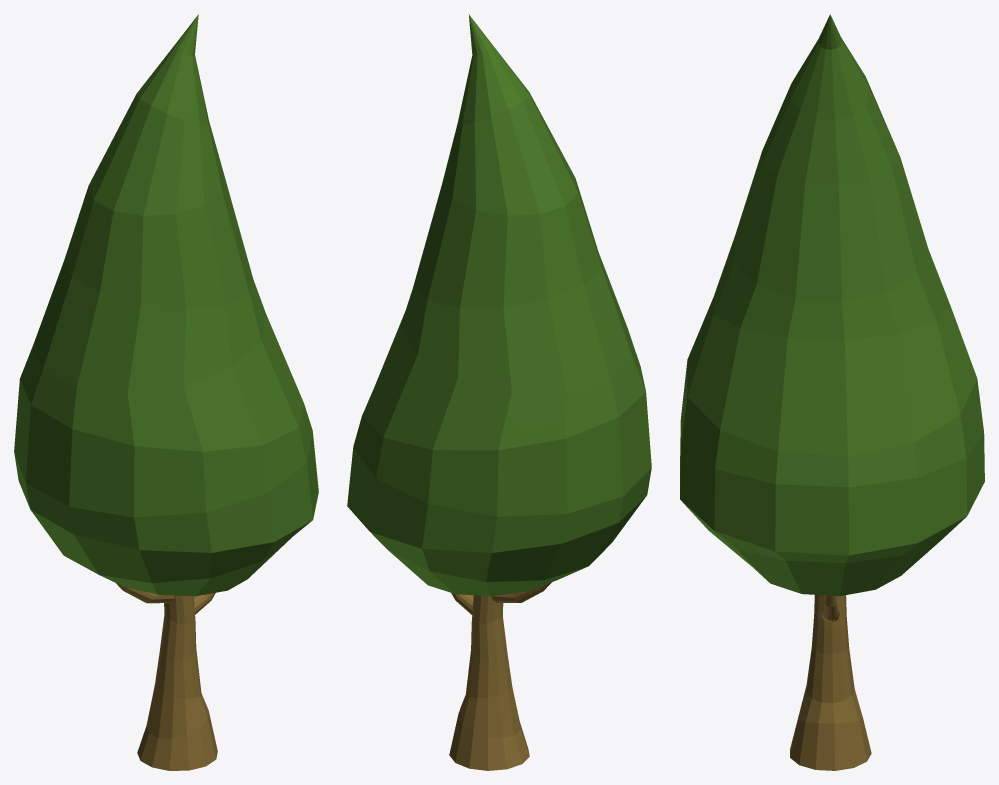
File: Tree02FBX.fbx
3 views of the same model, side by side, from view 1: azimuth 30°, elevation 25°; view 2: azimuth 150°, elevation 25°; view 3: azimuth 270°, elevation 25° (orthographic). The views are drawn at different scales.
Visible parts, largest first — view 1: Circle.003; view 2: Circle.003; view 3: Circle.003.
Boxes of the visible parts, <box> form: Circle.003: <box>14,14,318,770</box>; Circle.003: <box>347,14,651,770</box>; Circle.003: <box>680,14,984,770</box>.
Bounding box in the file's own units: 442 × 1171 × 432.
